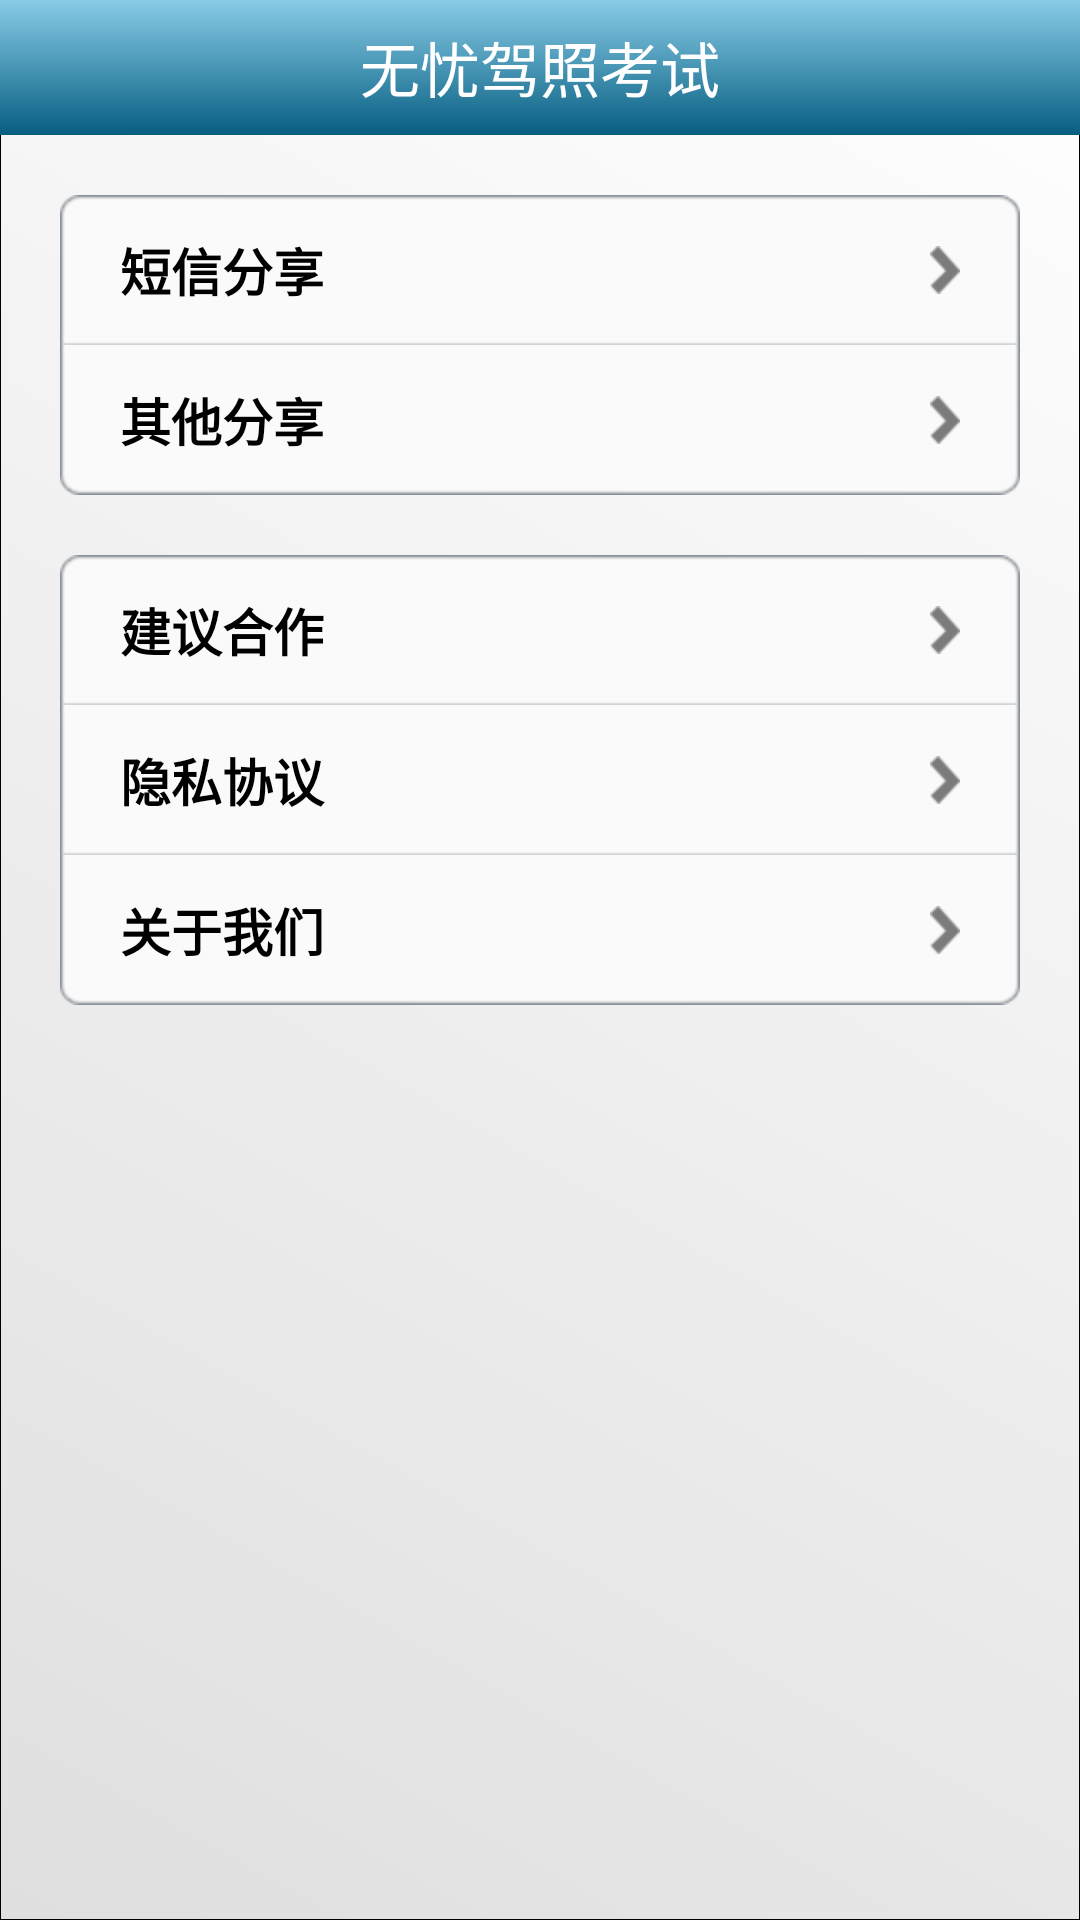

Locate icon controls on the screen. Image size 1080 × 1920, boxes as (left=x1, top=y1, right=x2, bottom=y2).
arrow unfilled: (left=930, top=246, right=960, bottom=294), (left=930, top=396, right=960, bottom=444), (left=930, top=606, right=960, bottom=654), (left=930, top=756, right=960, bottom=804), (left=930, top=906, right=960, bottom=954)
